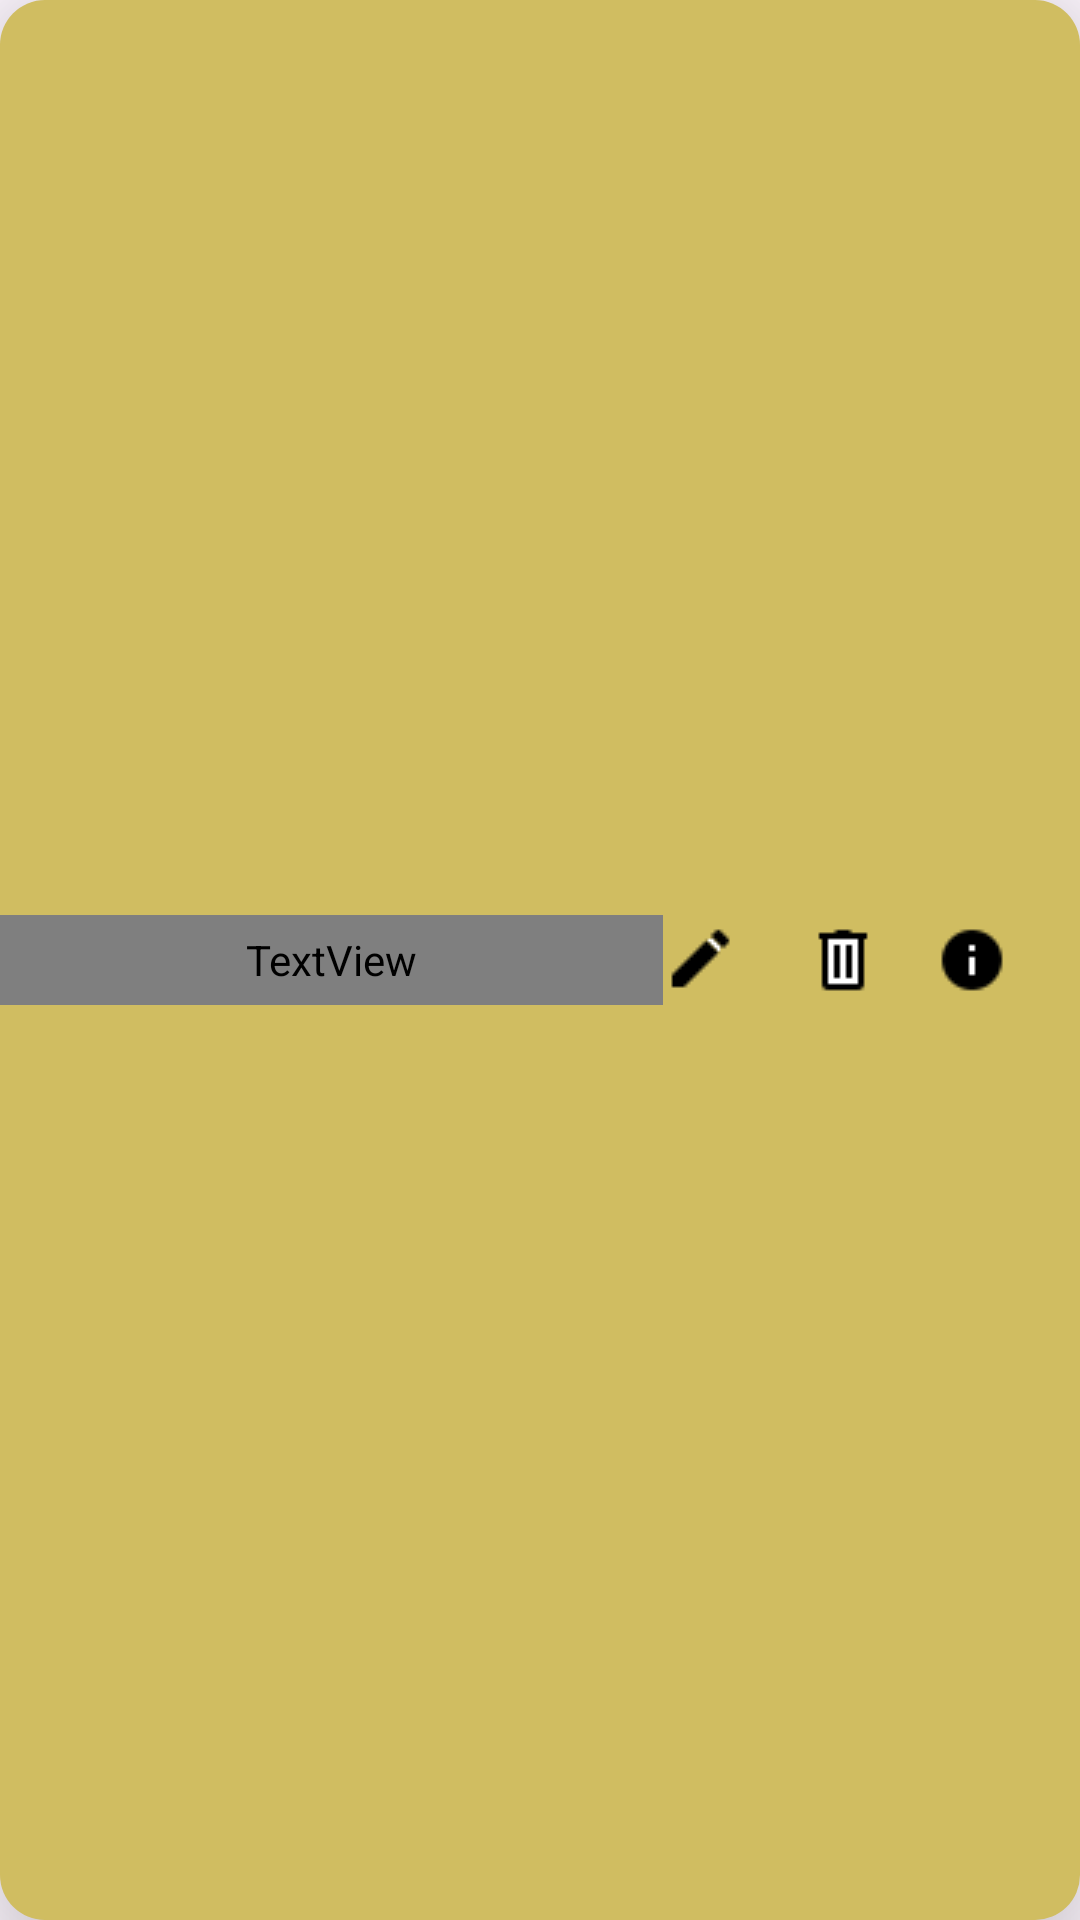

Where icons sit on this 1080w x 1920h app screen, as {"x1": x1, "y1": y1, "x2": x2, "y2": y2}:
delete: {"x1": 818, "y1": 929, "x2": 868, "y2": 991}
edit: {"x1": 671, "y1": 929, "x2": 730, "y2": 988}
info: {"x1": 941, "y1": 929, "x2": 1003, "y2": 991}
